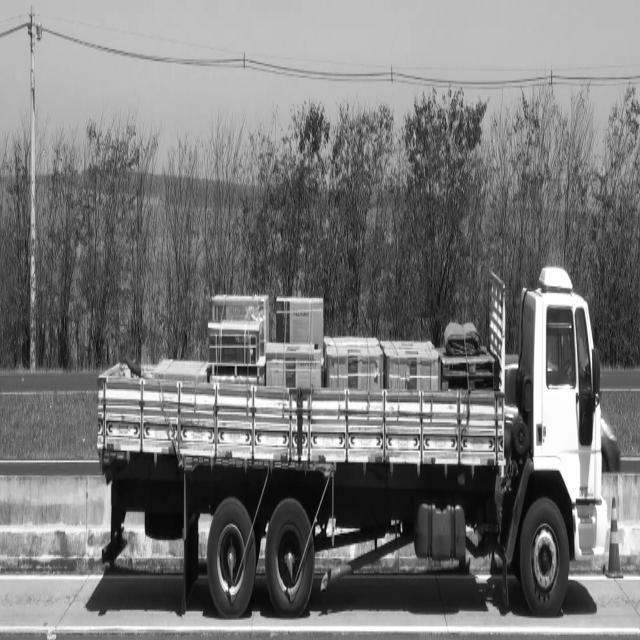Pole: (28, 6, 42, 373)
Truck: (98, 274, 606, 618)
